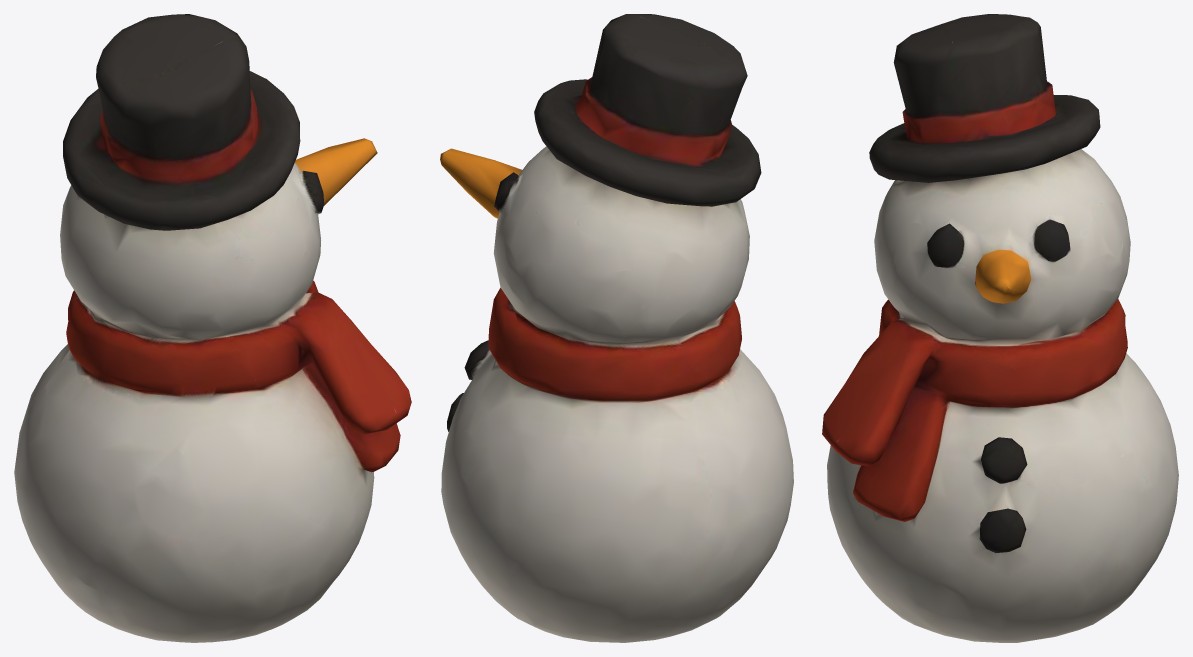
Rendered from f-snowman.glb.
3 renders of one model, left to right at view 1: azimuth 30°, elevation 25°; view 2: azimuth 150°, elevation 25°; view 3: azimuth 270°, elevation 25°, orthographic. The views are drawn at different scales.
Visible parts, largest first — view 1: tripo_node_8181a4cf-93e7-4845-b6a3-097df99de8b1; view 2: tripo_node_8181a4cf-93e7-4845-b6a3-097df99de8b1; view 3: tripo_node_8181a4cf-93e7-4845-b6a3-097df99de8b1.
Boxes of the visible parts, x1,y1,x2,y2 form: tripo_node_8181a4cf-93e7-4845-b6a3-097df99de8b1: (14, 14, 411, 642); tripo_node_8181a4cf-93e7-4845-b6a3-097df99de8b1: (440, 14, 793, 642); tripo_node_8181a4cf-93e7-4845-b6a3-097df99de8b1: (822, 14, 1178, 642).
Bounding box in the file's own units: 0.5976 × 1 × 0.5677.
1 material, 1 textured.
